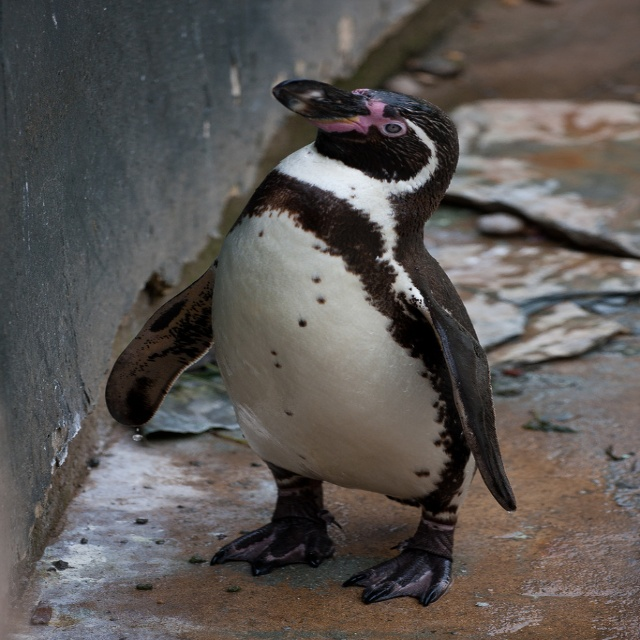Penguin: (101, 83, 547, 624)
